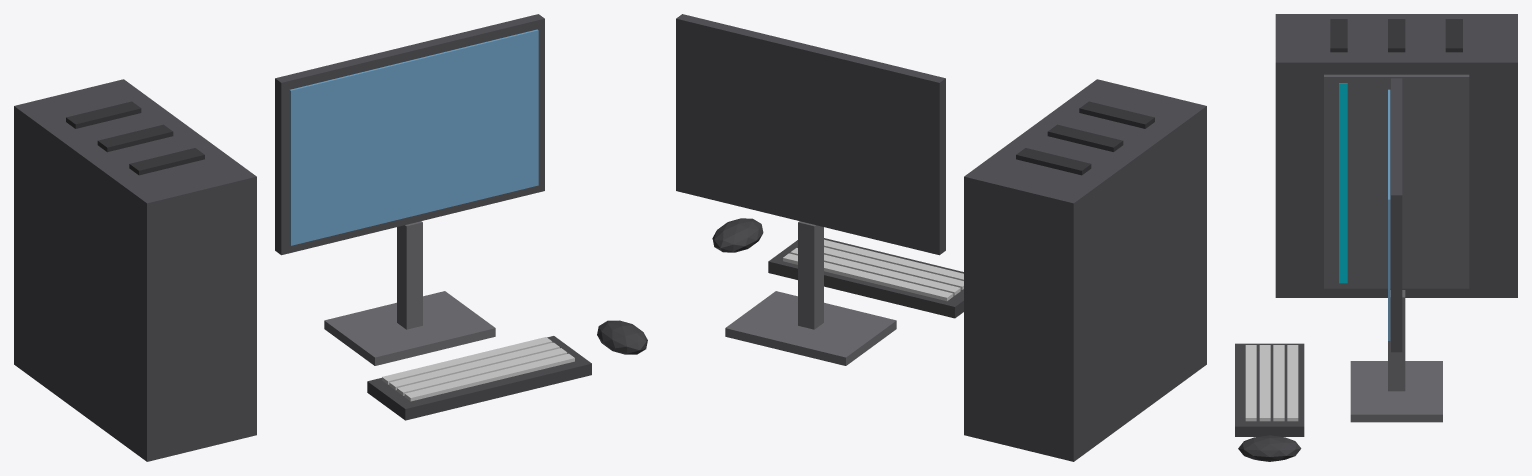
File: ordinateur.glb
3 views of the same model, side by side, from view 1: azimuth 30°, elevation 25°; view 2: azimuth 150°, elevation 25°; view 3: azimuth 270°, elevation 25° (orthographic). The views are drawn at different scales.
Visible parts, largest first — view 1: Tower_Body, Monitor_Screen, Monitor_Bezel, Monitor_Base, Keyboard_Body, Monitor_Neck, Keyboard_KeyRow_3, Keyboard_KeyRow_0, Keyboard_KeyRow_1, Keyboard_KeyRow_2, Mouse_Body, Tower_Vent_1 (+2 smaller); view 2: Tower_Body, Monitor_Bezel, Monitor_Base, Keyboard_Body, Monitor_Neck, Keyboard_KeyRow_0, Mouse_Body, Keyboard_KeyRow_1, Keyboard_KeyRow_2, Keyboard_KeyRow_3, Tower_Vent_1, Tower_Vent_2 (+1 smaller); view 3: Tower_Body, Tower_FrontPanel, Monitor_Base, Keyboard_Body, Monitor_Bezel, Tower_AccentStripe, Mouse_Body, Monitor_Neck, Keyboard_KeyRow_1, Keyboard_KeyRow_0, Keyboard_KeyRow_2, Keyboard_KeyRow_3 (+4 smaller).
Part boxes in pixels (bbox=[...]): Tower_Body: bbox=[14, 79, 256, 461]; Monitor_Screen: bbox=[289, 29, 538, 245]; Monitor_Bezel: bbox=[275, 14, 544, 255]; Monitor_Base: bbox=[324, 291, 495, 365]; Keyboard_Body: bbox=[367, 336, 591, 420]; Monitor_Neck: bbox=[397, 221, 422, 329]; Keyboard_KeyRow_3: bbox=[404, 353, 574, 401]; Keyboard_KeyRow_0: bbox=[382, 337, 552, 384]; Keyboard_KeyRow_1: bbox=[389, 342, 559, 390]; Keyboard_KeyRow_2: bbox=[397, 348, 567, 395]; Mouse_Body: bbox=[597, 320, 647, 354]; Tower_Vent_1: bbox=[97, 124, 173, 152]; Tower_Body: bbox=[964, 79, 1206, 461]; Monitor_Bezel: bbox=[676, 14, 945, 255]; Monitor_Base: bbox=[725, 291, 896, 365]; Keyboard_Body: bbox=[768, 238, 963, 318]; Monitor_Neck: bbox=[798, 221, 823, 329]; Keyboard_KeyRow_0: bbox=[783, 253, 953, 301]; Mouse_Body: bbox=[712, 218, 763, 252]; Keyboard_KeyRow_1: bbox=[790, 248, 960, 295]; Keyboard_KeyRow_2: bbox=[824, 247, 963, 289]; Keyboard_KeyRow_3: bbox=[824, 239, 963, 280]; Tower_Vent_1: bbox=[1047, 124, 1123, 151]; Tower_Vent_2: bbox=[1079, 101, 1154, 128]; Tower_Body: bbox=[1275, 14, 1517, 297]; Tower_FrontPanel: bbox=[1324, 74, 1469, 288]; Monitor_Base: bbox=[1350, 361, 1442, 422]; Keyboard_Body: bbox=[1235, 343, 1304, 436]; Monitor_Bezel: bbox=[1391, 78, 1402, 352]; Tower_AccentStripe: bbox=[1339, 83, 1347, 283]; Mouse_Body: bbox=[1238, 435, 1301, 461]; Monitor_Neck: bbox=[1388, 290, 1405, 391]; Keyboard_KeyRow_1: bbox=[1273, 345, 1284, 421]; Keyboard_KeyRow_0: bbox=[1287, 345, 1298, 421]; Keyboard_KeyRow_2: bbox=[1259, 345, 1270, 421]; Keyboard_KeyRow_3: bbox=[1245, 345, 1256, 421].
Size of the model in its own units: 0.895 by 0.495 by 0.49.
